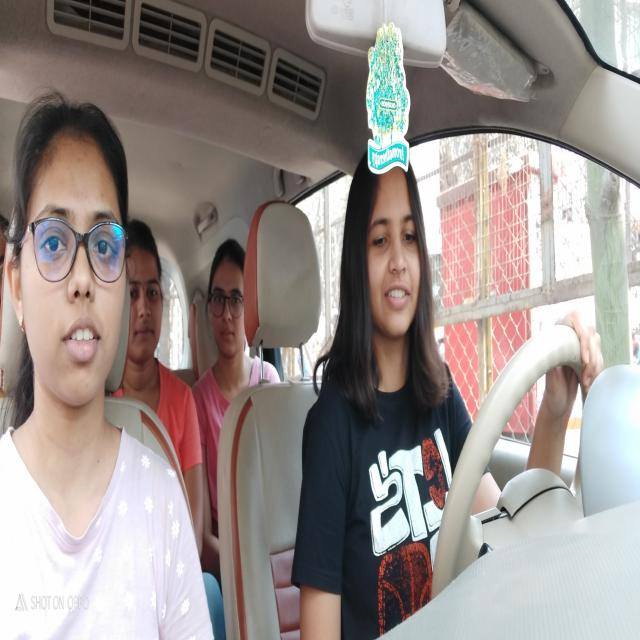person: (10, 90, 130, 428), (353, 150, 434, 349), (128, 218, 167, 388), (204, 238, 248, 366)
